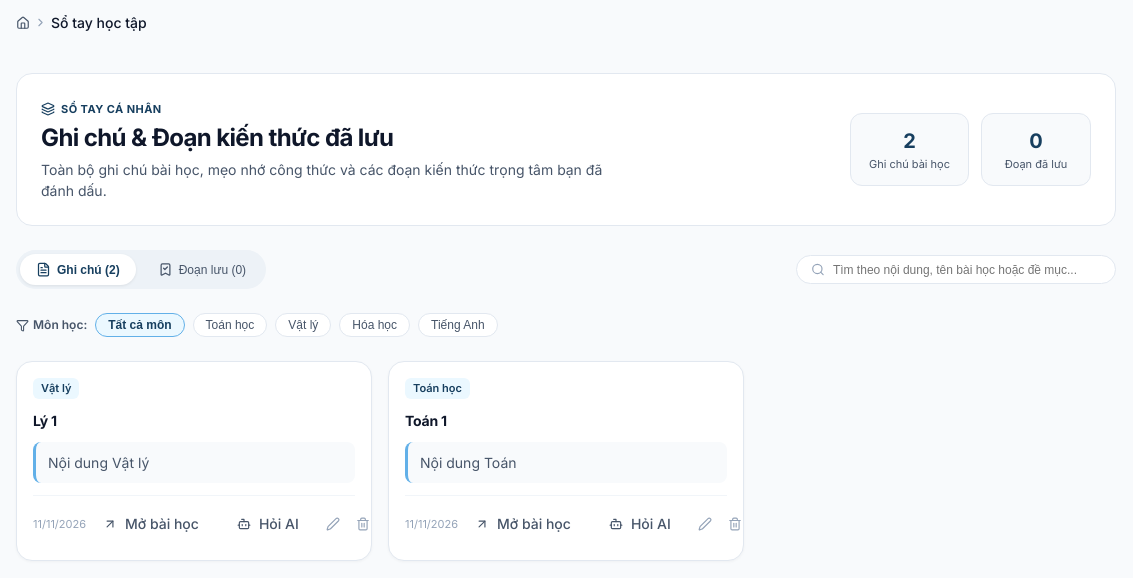
Test: MyNotesPage › filters notes using subject filter pills
Expected: the text "Nội dung Toán" is shown, [405, 442, 727, 483]
Expected: the text "Nội dung Vật lý" is shown, [33, 442, 355, 483]
# Click 'Vật lý' chip
Step 1. Click the button "Vật lý" → click(303, 325), box [275, 313, 331, 337]
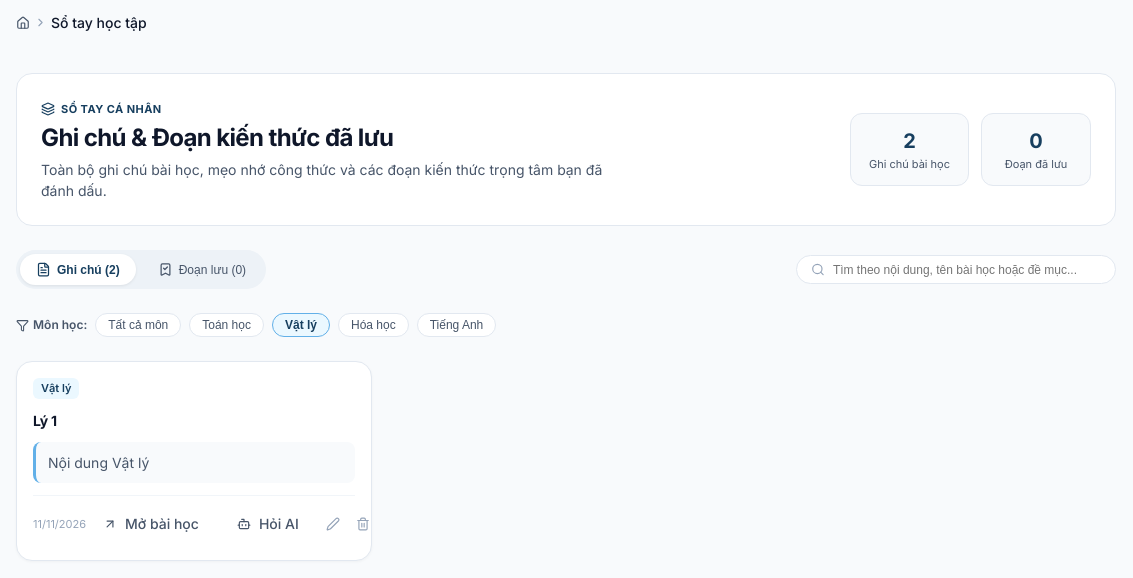
Expected: the text "Nội dung Vật lý" is shown, [33, 442, 355, 483]
Expected: the text "Nội dung Toán" is gone
